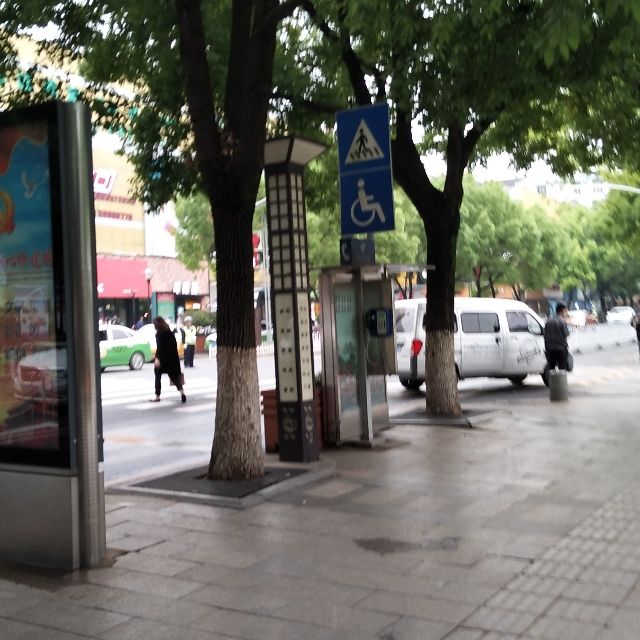crosswalk: (335, 113, 385, 170)
